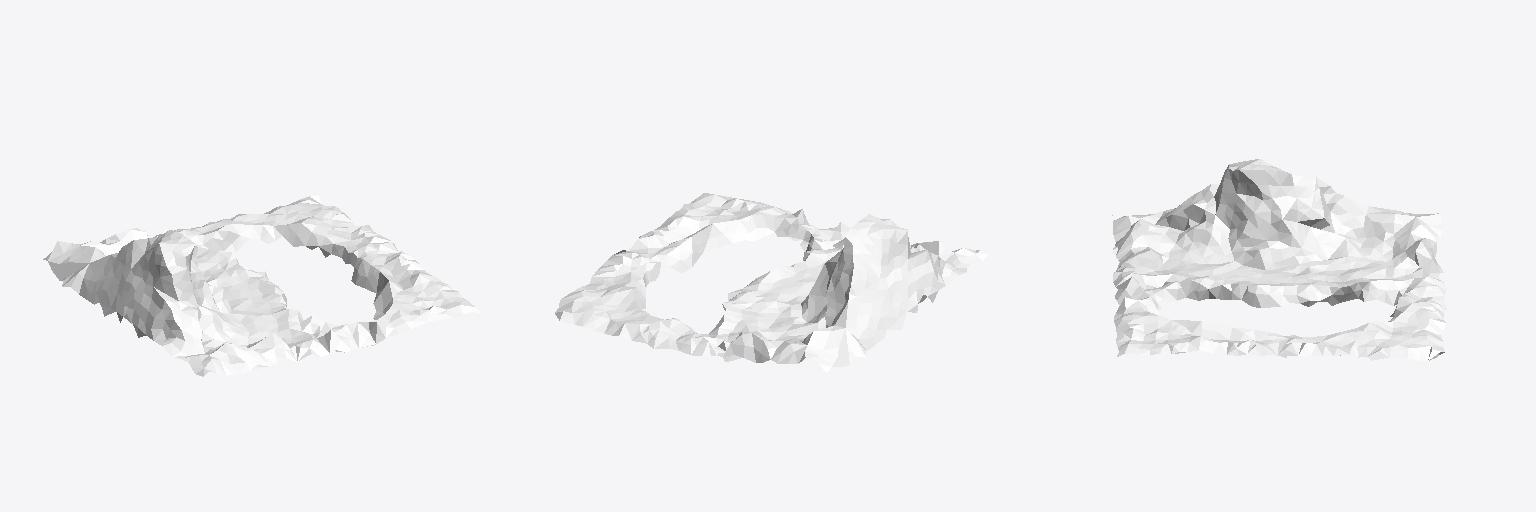
The model's file is ground.obj.
3 views of the same model, side by side, from view 1: azimuth 30°, elevation 25°; view 2: azimuth 150°, elevation 25°; view 3: azimuth 270°, elevation 25° (orthographic).
Visible parts, largest first — view 1: Ground; view 2: Ground; view 3: Ground.
Part boxes in pixels (left/top/right/bottom): Ground: left=43, top=195, right=480, bottom=376; Ground: left=555, top=193, right=987, bottom=372; Ground: left=1112, top=159, right=1447, bottom=360.
Bounding box in the file's own units: 95.94 × 29.51 × 95.44.